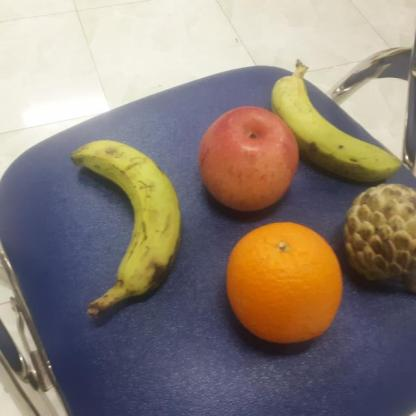annona: (340, 182, 416, 291)
apple: (198, 104, 298, 213)
banana: (69, 136, 185, 294), (268, 73, 402, 181)
orange: (225, 221, 343, 348)
